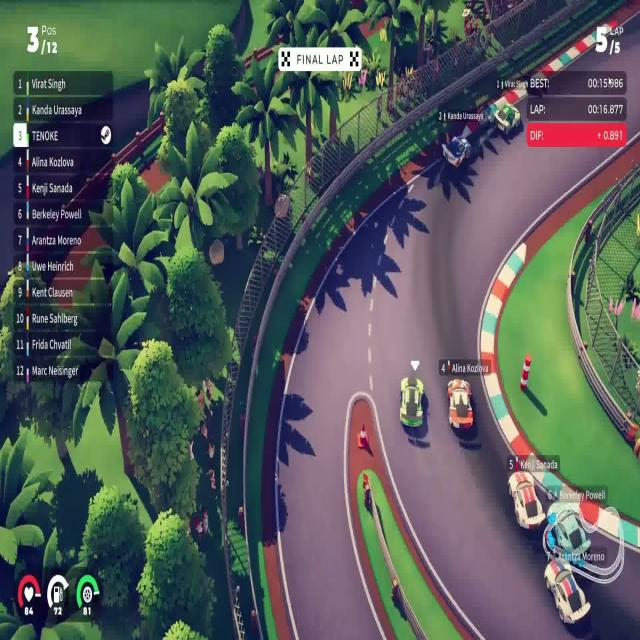car: (507, 469, 545, 531), (447, 378, 474, 433), (398, 373, 424, 429), (441, 134, 471, 169), (494, 102, 521, 138)
